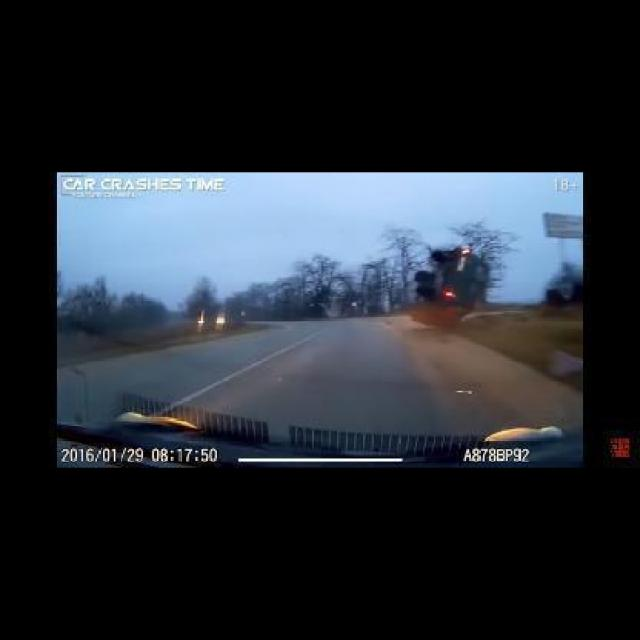accident: (402, 242, 506, 322)
